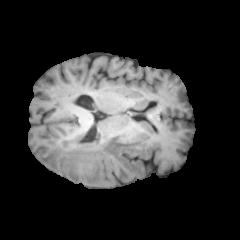glioma: (40, 114, 142, 185)
